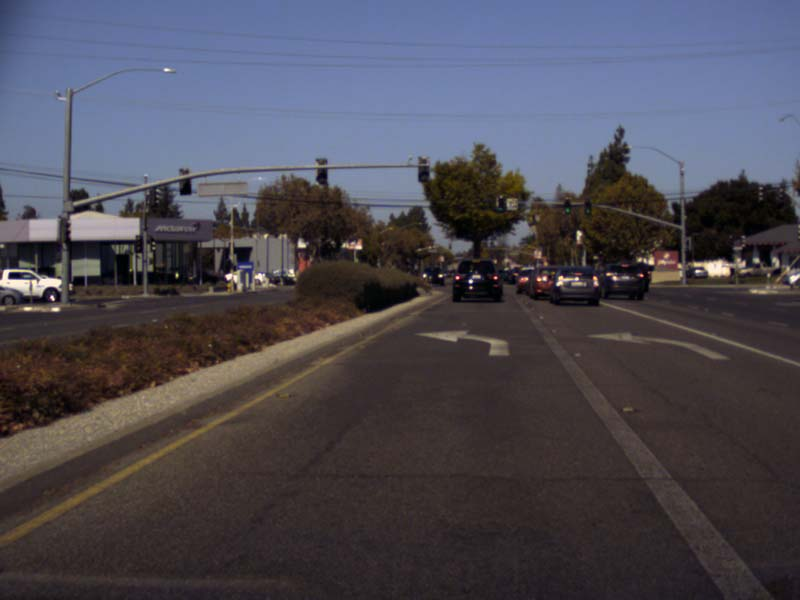Green: (496, 194, 504, 211), (563, 198, 571, 214), (584, 202, 592, 215)
